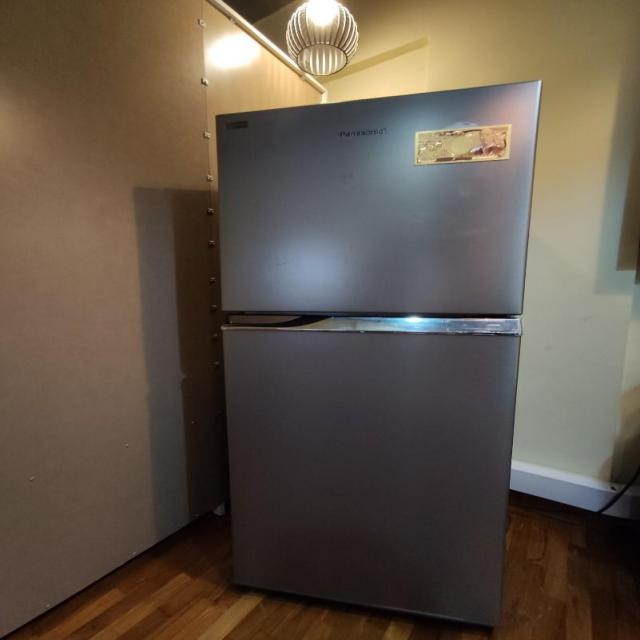refrigerator: (218, 78, 547, 634)
